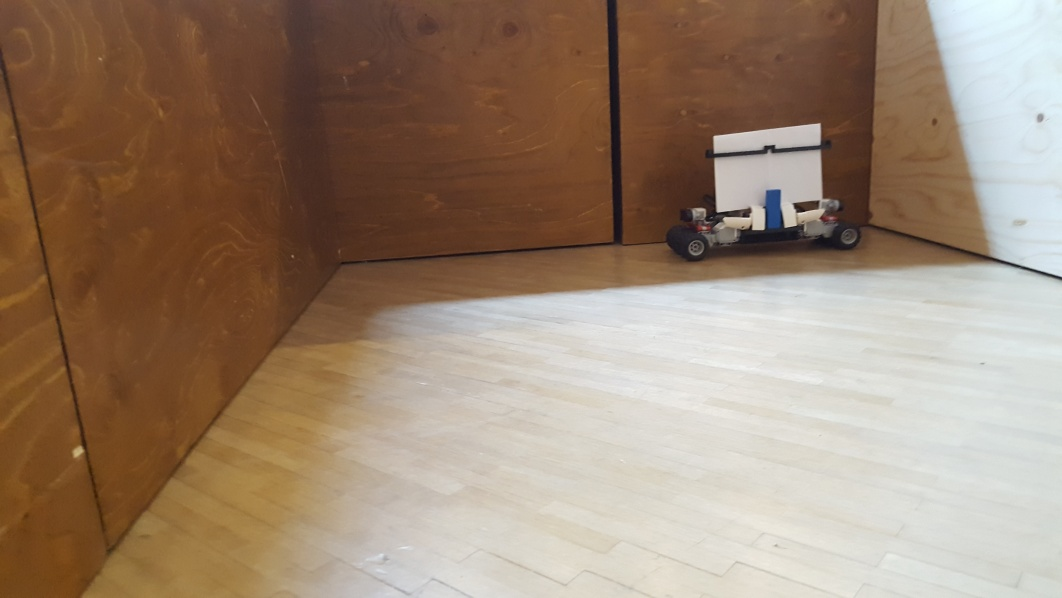car: (666, 123, 861, 260)
